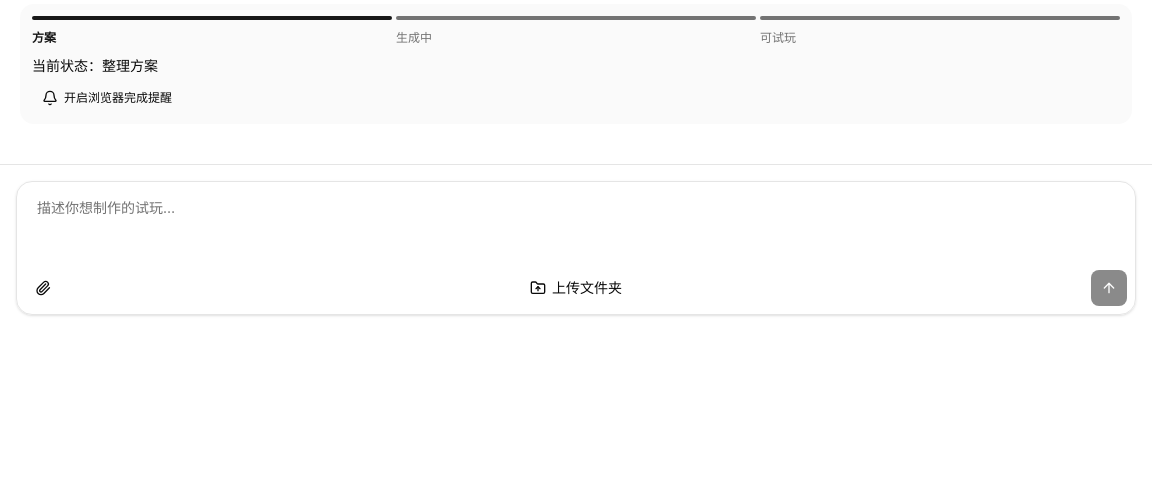
Test: PlayableWorkspace › shows reference tool started and failed states before a brief exists
Type "分析附件" into the text box named "试玩需求".
click(576, 230); type("分析附件")  # box left=25, top=190, right=1127, bottom=270
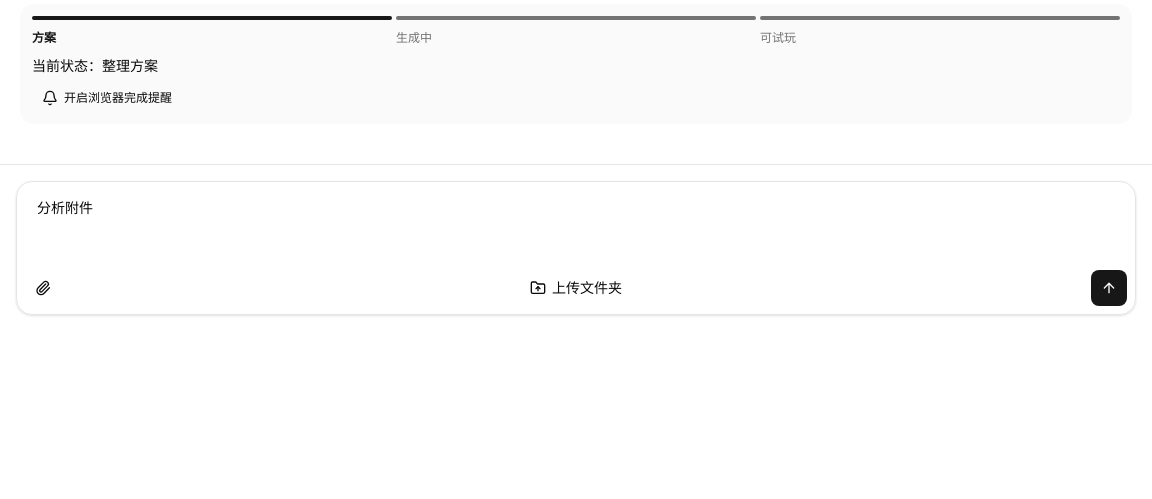
Click the button named "发送需求".
click(1109, 288)  # box left=1091, top=270, right=1127, bottom=306
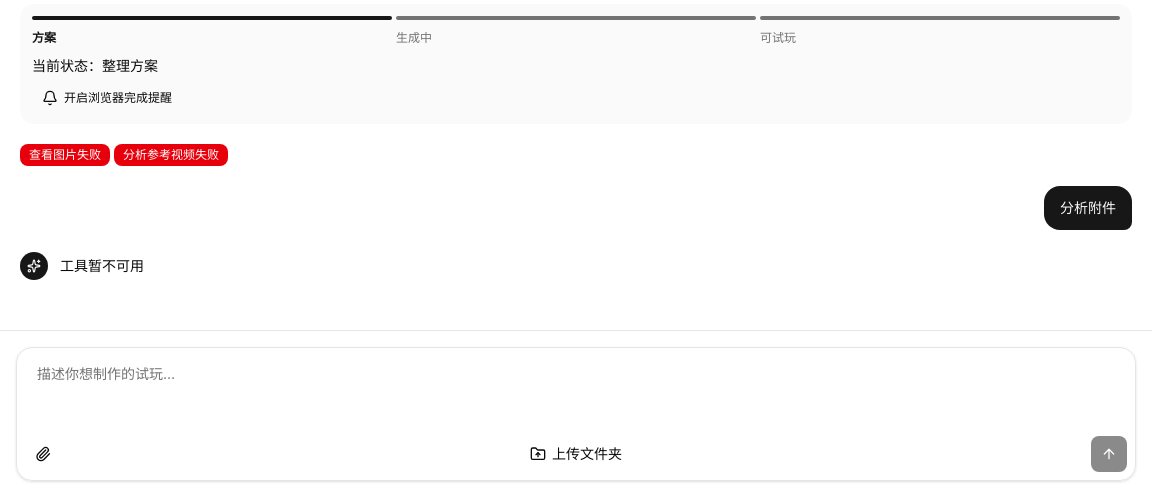
expect the element named "本轮 Agent 工具" shows "查看图片失败": met, box left=20, top=144, right=228, bottom=166
expect the element named "本轮 Agent 工具" shows "分析参考视频失败": met, box left=20, top=144, right=228, bottom=166
